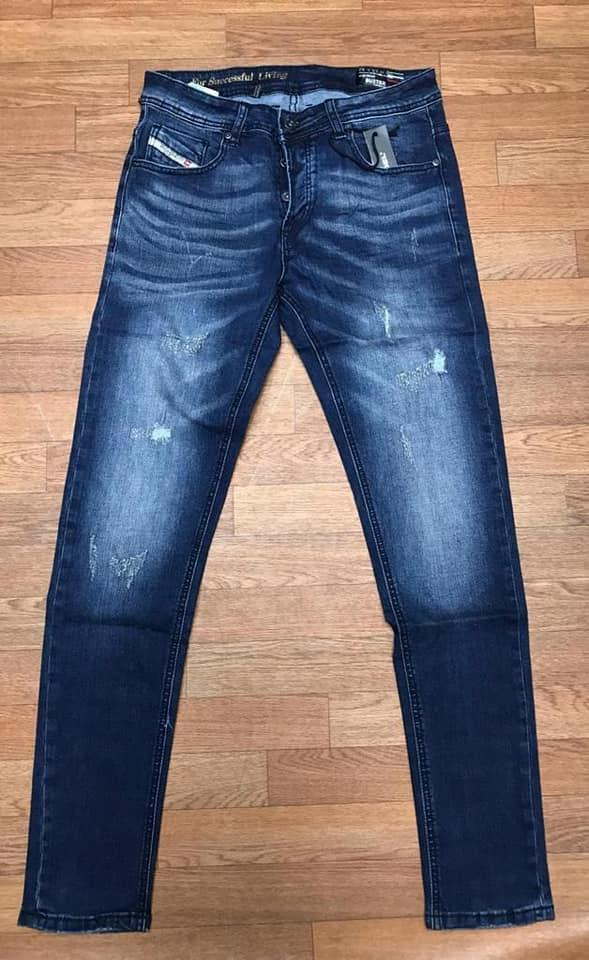Jeans: (9, 55, 564, 955)
